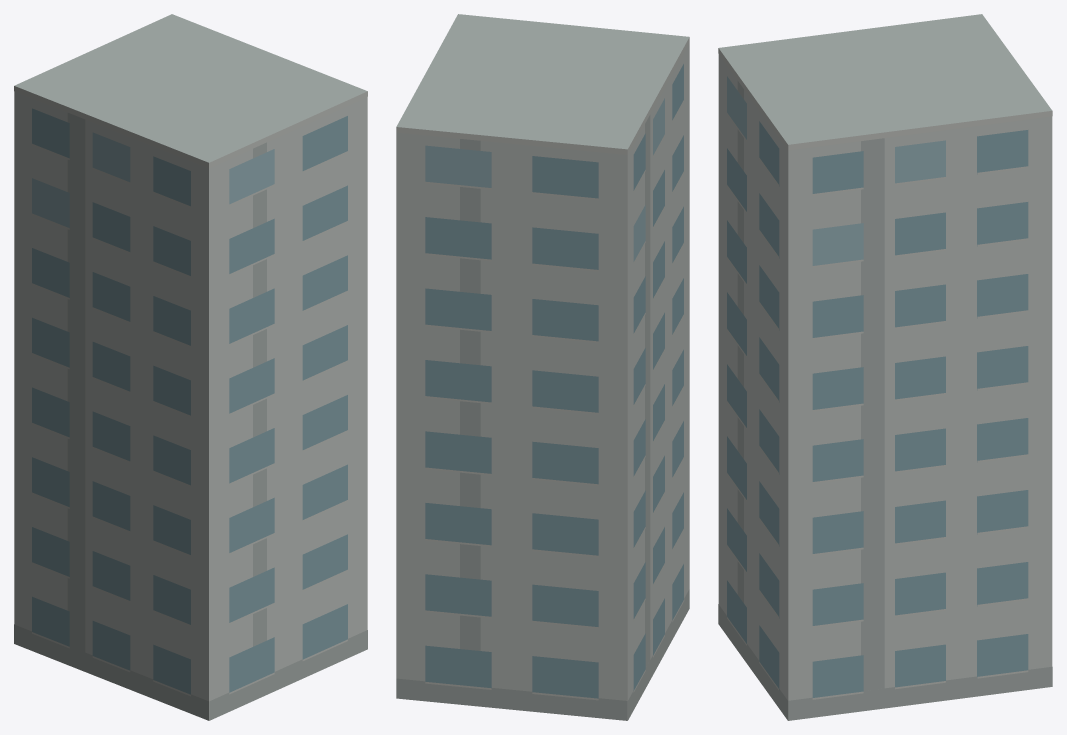
File: survey-upis-32565326.glb
3 renders of one model, left to right at view 1: azimuth 30°, elevation 25°; view 2: azimuth 150°, elevation 25°; view 3: azimuth 270°, elevation 25°, orthographic. The views are drawn at different scales.
Parts seen in each view (by area): view 1: survey-upis-32565326.tmp; view 2: survey-upis-32565326.tmp; view 3: survey-upis-32565326.tmp.
Part boxes in pixels (x1,y1,x2,y2): survey-upis-32565326.tmp: (14, 14, 367, 720); survey-upis-32565326.tmp: (396, 14, 689, 720); survey-upis-32565326.tmp: (718, 14, 1052, 720).
Size of the model in its own units: 11.89 by 24.4 by 12.83.
